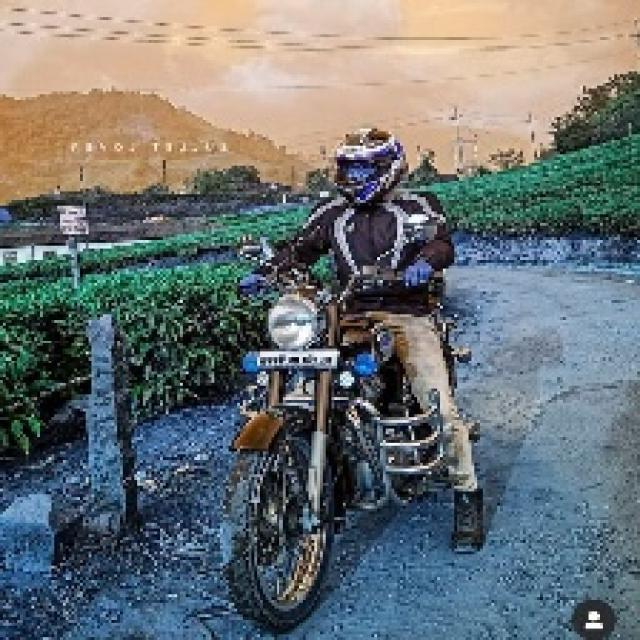motorcycle: (201, 270, 428, 614)
